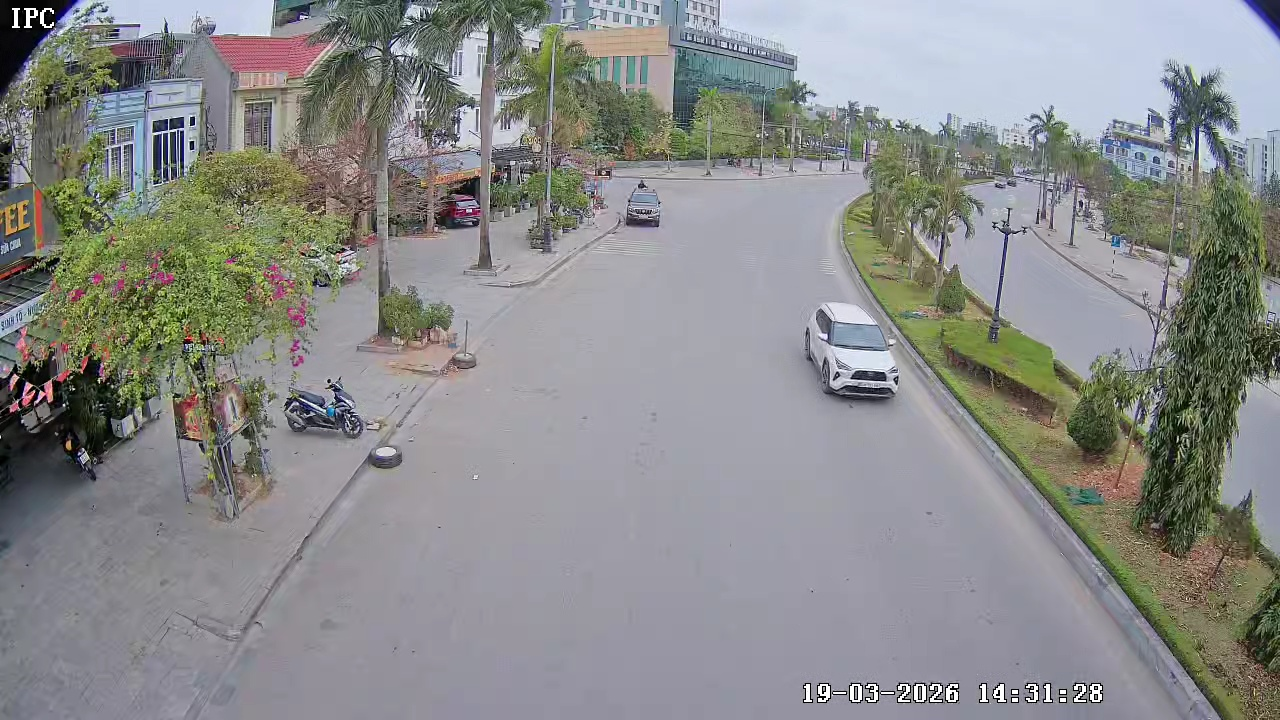car: (803, 300, 899, 398), (620, 182, 664, 228), (434, 189, 482, 230)
motorbike: (284, 374, 366, 439)
